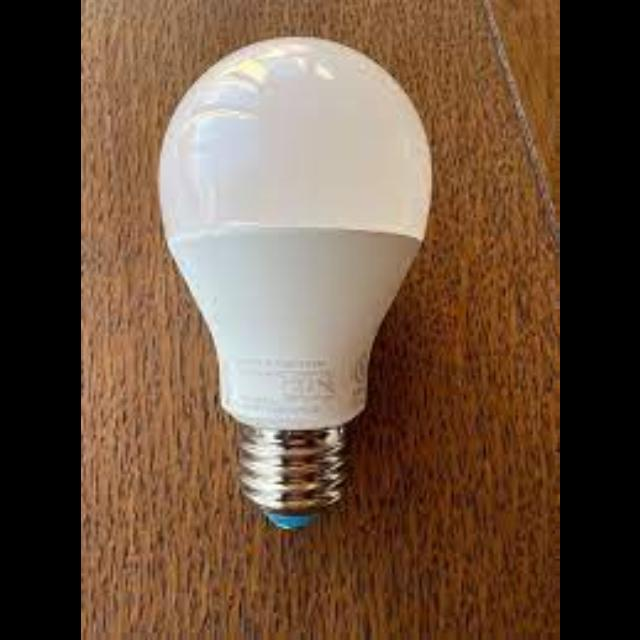light_bulb: (157, 40, 436, 520)
